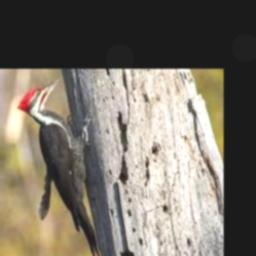Woodpecker: (16, 76, 102, 256)
